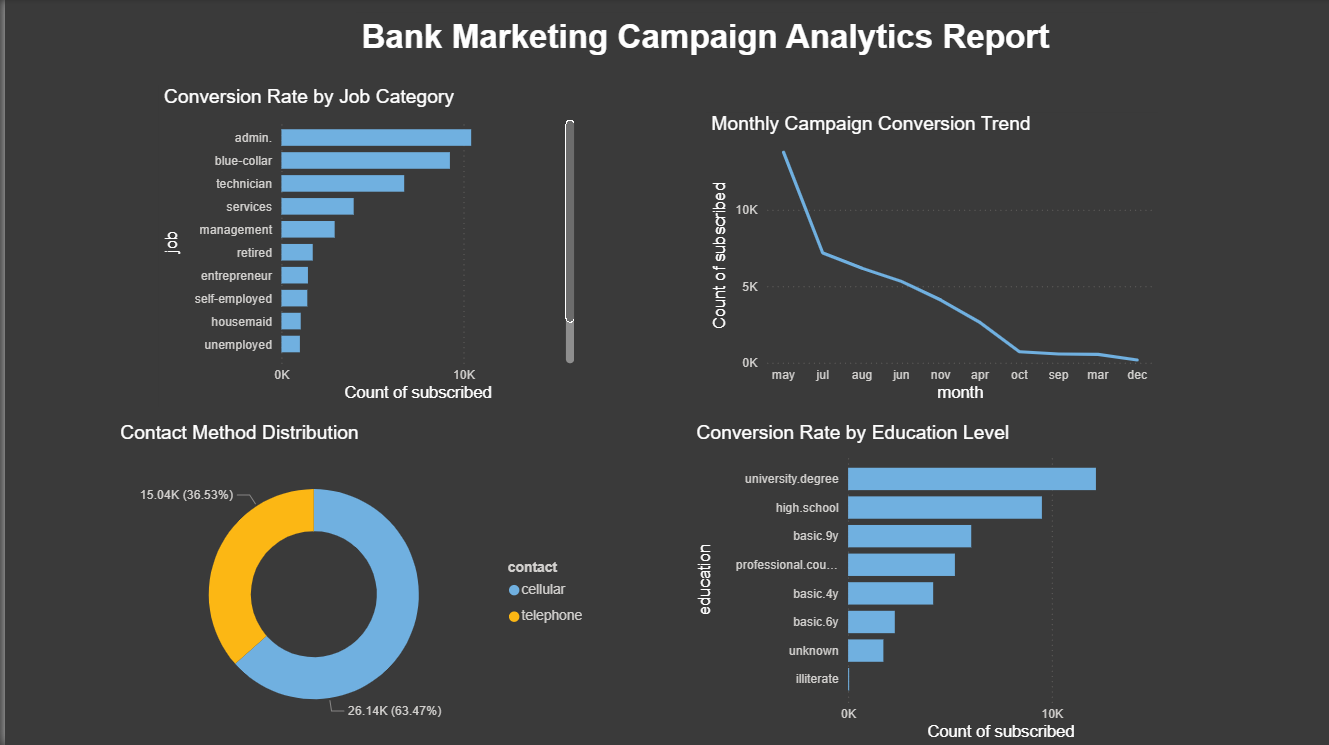

Layout of this report page (visuals, bound fields, positions):
{"tool":"powerbi","page":{"name":"Page 1","canvas":[1280,720],"ordinal":0},"visuals":[{"type":"clusteredBarChart","title":"Conversion Rate by Job Category","fields":{"Category":["bank_marketing.job"],"Y":["CountNonNull(bank_marketing.subscribed)"]},"box":[148.2,83.7,406.2,310.1],"z":0},{"type":"lineChart","title":"Monthly Campaign Conversion Trend","fields":{"Category":["bank_marketing.month"],"Y":["CountNonNull(bank_marketing.subscribed)"]},"box":[676.5,109.8,436.4,284],"z":1},{"type":"donutChart","title":"Contact Method Distribution","fields":{"Category":["bank_marketing.contact"],"Y":["CountNonNull(bank_marketing.subscribed)"]},"box":[105.7,407.5,465.2,312.9],"z":2},{"type":"clusteredBarChart","title":"Conversion Rate by Education Level","fields":{"Category":["bank_marketing.education"],"Y":["CountNonNull(bank_marketing.subscribed)"]},"box":[662.8,407.5,462.4,312.9],"z":3},{"type":"textbox","box":[338.9,13.7,773.9,70],"z":4}]}

Visuals, with their boxes in screenshot pixels (x1, y1, x2, y2), scaled from the page's 1280x720 canvas onto the 1329x745 screenshot:
"Conversion Rate by Job Category" clusteredBarChart: rect(154, 87, 576, 407)
"Monthly Campaign Conversion Trend" lineChart: rect(702, 114, 1156, 407)
"Contact Method Distribution" donutChart: rect(110, 422, 593, 744)
"Conversion Rate by Education Level" clusteredBarChart: rect(688, 422, 1168, 744)
textbox: rect(352, 14, 1155, 87)
